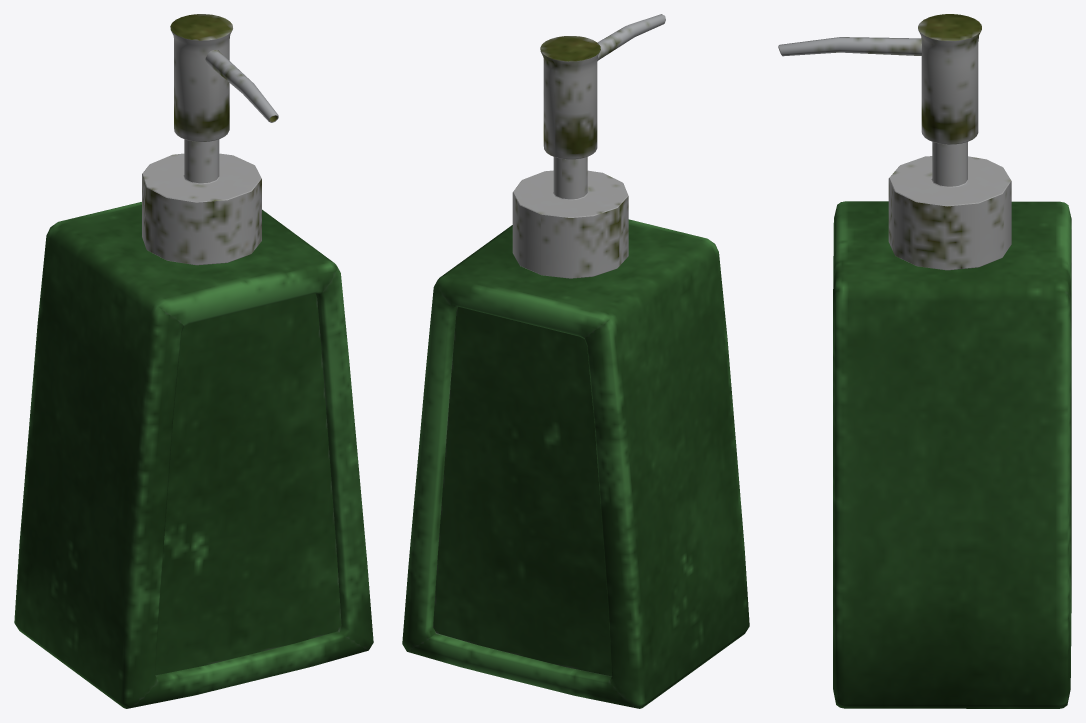
The model's file is Prop_SoapDish.fbx.
3 renders of one model, left to right at view 1: azimuth 30°, elevation 25°; view 2: azimuth 150°, elevation 25°; view 3: azimuth 270°, elevation 25°, orthographic. The views are drawn at different scales.
Parts seen in each view (by area): view 1: Prop_SoapDish; view 2: Prop_SoapDish; view 3: Prop_SoapDish.
Boxes of the visible parts, x1=… form: Prop_SoapDish: x1=14, y1=14, x2=373, y2=708; Prop_SoapDish: x1=402, y1=14, x2=749, y2=708; Prop_SoapDish: x1=778, y1=14, x2=1071, y2=708.
Bounding box in the file's own units: 3.98 × 9.28 × 3.94.
